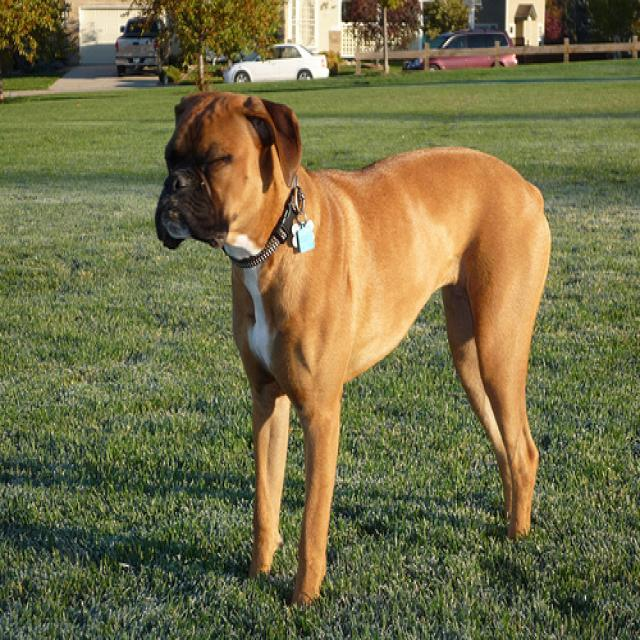dog-boxer: (146, 85, 553, 606)
